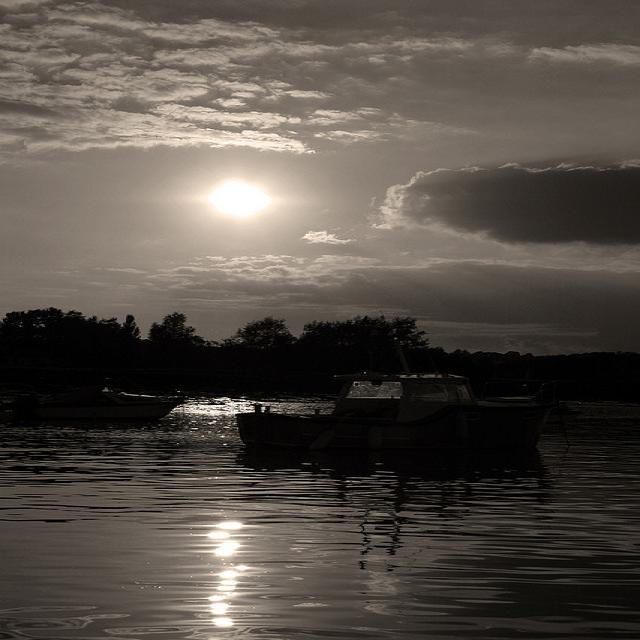Boat: (229, 340, 572, 489), (0, 370, 198, 452)
